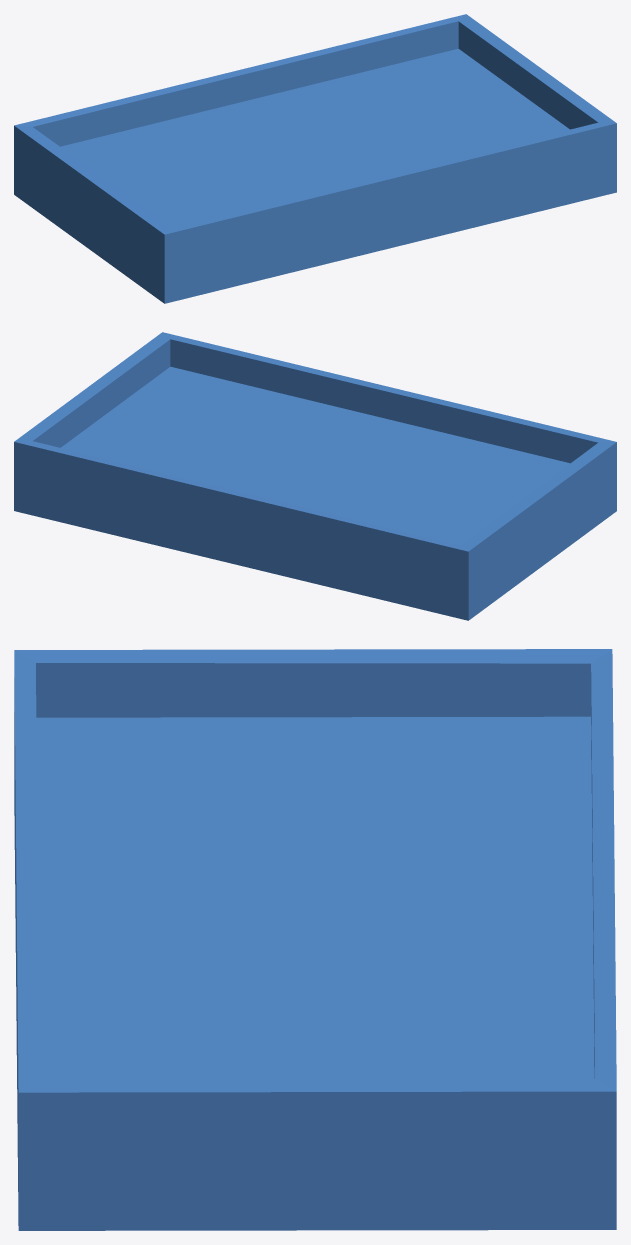
The model's file is Childrens_Room_Bed.fbx.
3 renders of one model, top to bottom at view 1: azimuth 30°, elevation 25°; view 2: azimuth 150°, elevation 25°; view 3: azimuth 270°, elevation 25°, orthographic. The views are drawn at different scales.
Visible parts, largest first — view 1: Childrens_Room_Bed; view 2: Childrens_Room_Bed; view 3: Childrens_Room_Bed.
Boxes of the visible parts, x1,y1,x2,y2 form: Childrens_Room_Bed: (14,14,616,303); Childrens_Room_Bed: (14,332,616,620); Childrens_Room_Bed: (14,649,616,1230).
Size of the model in its own units: 248 by 36.09 by 142.
